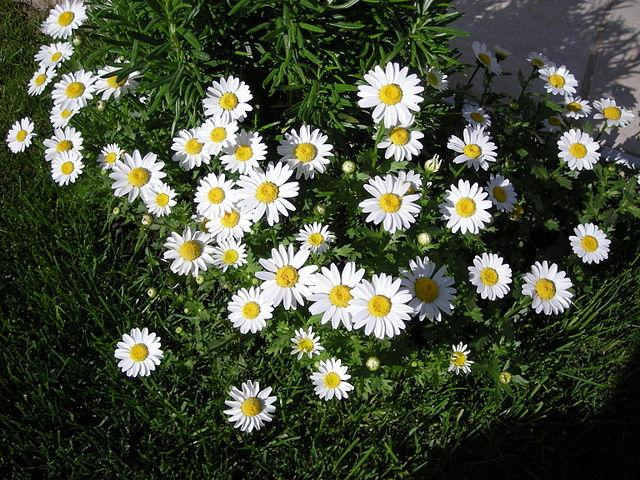chamomile: (170, 80, 262, 161), (389, 262, 462, 327), (257, 237, 312, 321), (310, 255, 364, 332), (356, 77, 423, 134), (158, 223, 224, 280), (188, 85, 264, 134), (230, 163, 289, 225), (95, 325, 174, 371), (439, 180, 496, 243), (269, 125, 346, 171), (367, 167, 425, 227), (129, 180, 202, 225), (463, 252, 522, 307), (193, 167, 247, 219), (45, 2, 96, 56), (200, 215, 279, 249), (371, 118, 435, 158), (353, 273, 391, 340), (523, 267, 569, 321), (109, 157, 167, 199), (36, 143, 84, 191), (29, 38, 86, 76), (554, 132, 603, 176), (210, 232, 256, 276), (302, 368, 359, 401), (228, 270, 254, 341), (451, 130, 497, 170), (94, 58, 129, 110), (244, 383, 283, 429), (59, 67, 92, 119), (1, 118, 41, 157), (539, 63, 581, 99), (574, 227, 612, 263), (303, 220, 332, 259), (472, 38, 503, 73), (297, 330, 329, 363), (24, 73, 54, 106), (449, 350, 485, 376), (597, 102, 630, 128), (100, 142, 127, 172), (484, 193, 521, 214)
